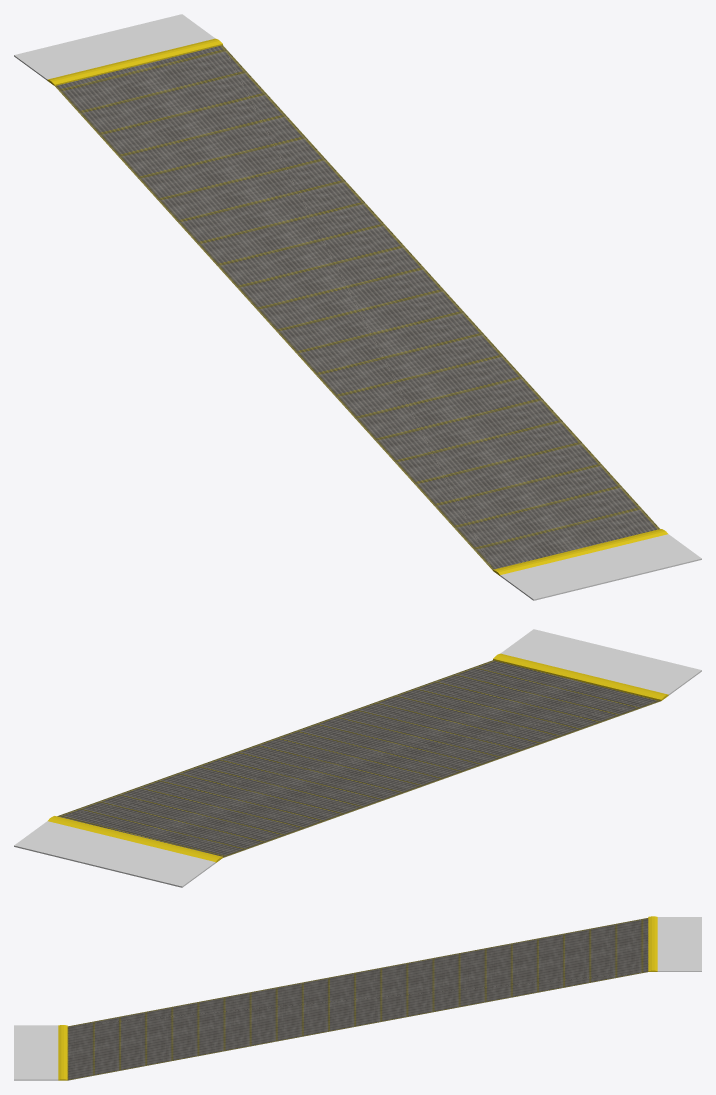
Rendered from WalkwayHill.fbx.
3 views of the same model, one above another, from view 1: azimuth 30°, elevation 25°; view 2: azimuth 150°, elevation 25°; view 3: azimuth 270°, elevation 25° (orthographic). The views are drawn at different scales.
Parts seen in each view (by area): view 1: Walkway, Threshold Surface, Threshold Sill; view 2: Walkway, Threshold Surface, Threshold Sill; view 3: Walkway, Threshold Surface, Threshold Sill.
Part boxes in pixels (box(x1,y1,x2,y2)): Walkway: box(55, 45, 659, 570); Threshold Surface: box(14, 14, 701, 600); Threshold Sill: box(47, 38, 667, 575); Walkway: box(57, 660, 660, 857); Threshold Surface: box(14, 629, 701, 887); Threshold Sill: box(48, 653, 668, 862); Walkway: box(67, 918, 648, 1080); Threshold Surface: box(14, 917, 701, 1080); Threshold Sill: box(58, 916, 657, 1080).
Size of the model in its own units: 200 by 189 by 1070.
